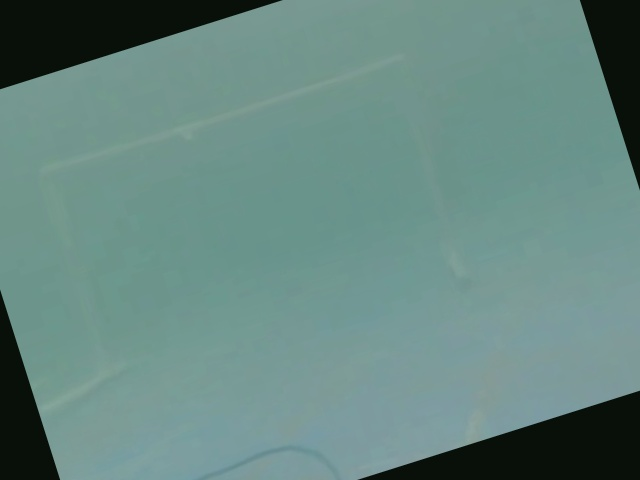gate: (25, 57, 479, 318)
